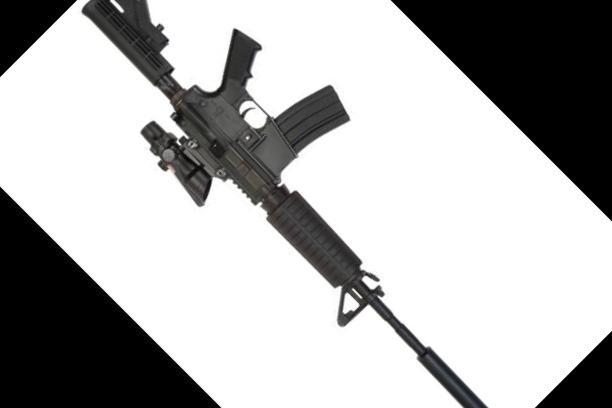larga: (80, 0, 490, 408)
